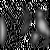node: (36, 9, 49, 37), (1, 16, 6, 44), (30, 31, 40, 43)
